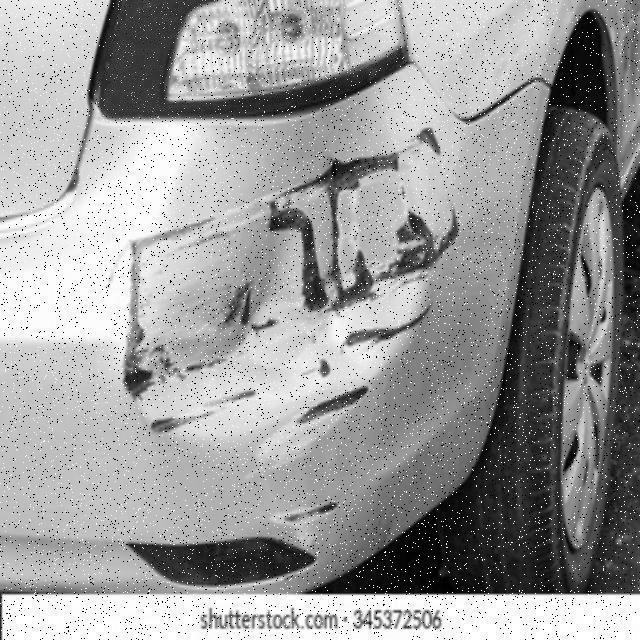rear-bumper-dent: (37, 123, 544, 589)
